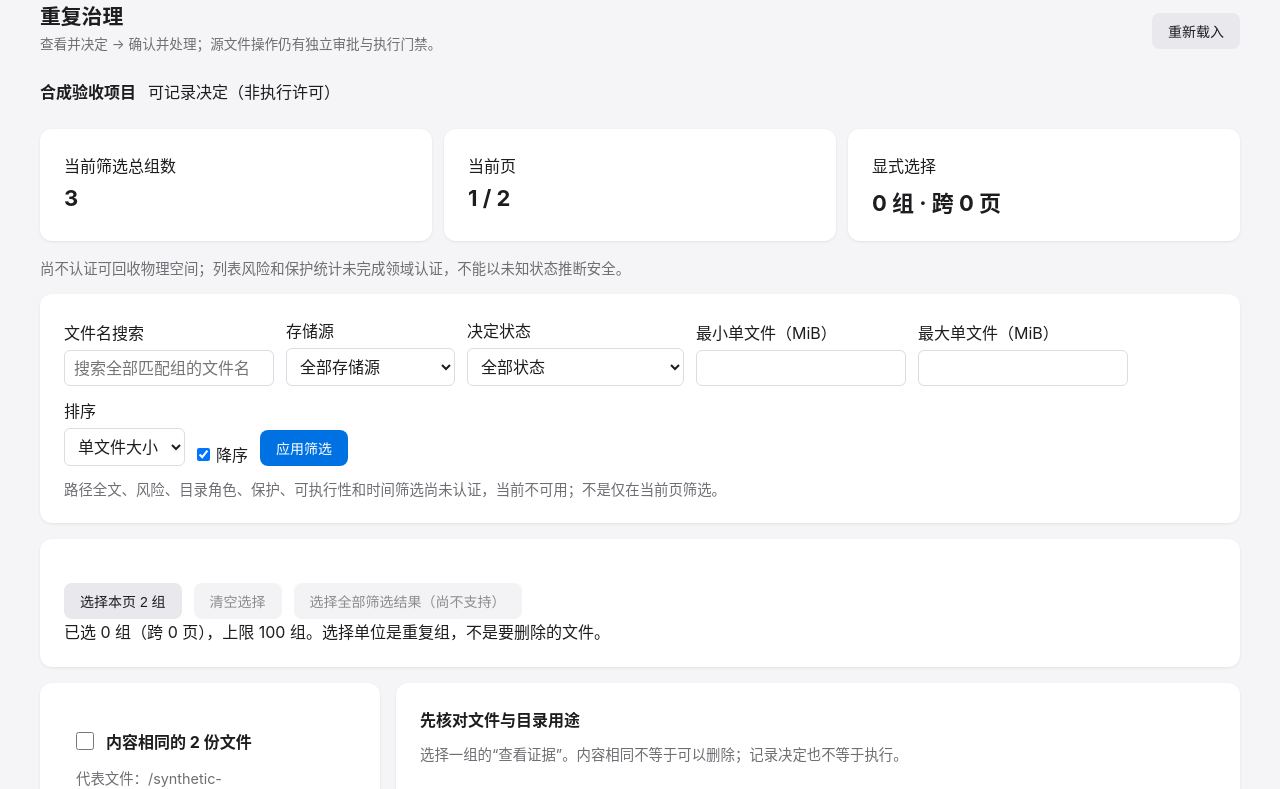
it: governance workbench selection and records-only flow › records a single intent on the same page without an execution API
What coordinates should you click on to do the following:
click the checkbox named "选择本页第 1 组"
I would click on:
 (85, 741)
Its box is [76,732,94,750].
(page scrolled)
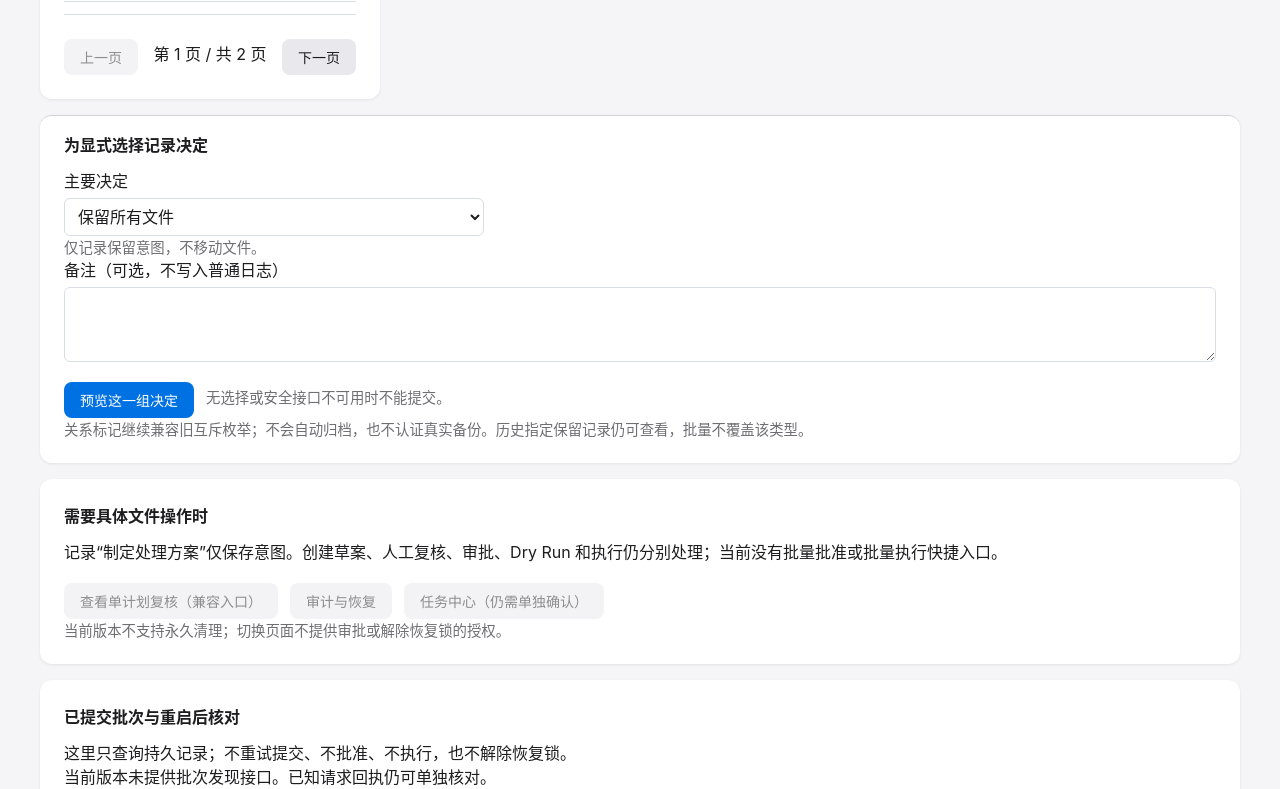
What coordinates should you click on to do the following:
click the button "预览这一组决定"
I would click on:
 (129, 400)
Its box is [64,382,194,418].
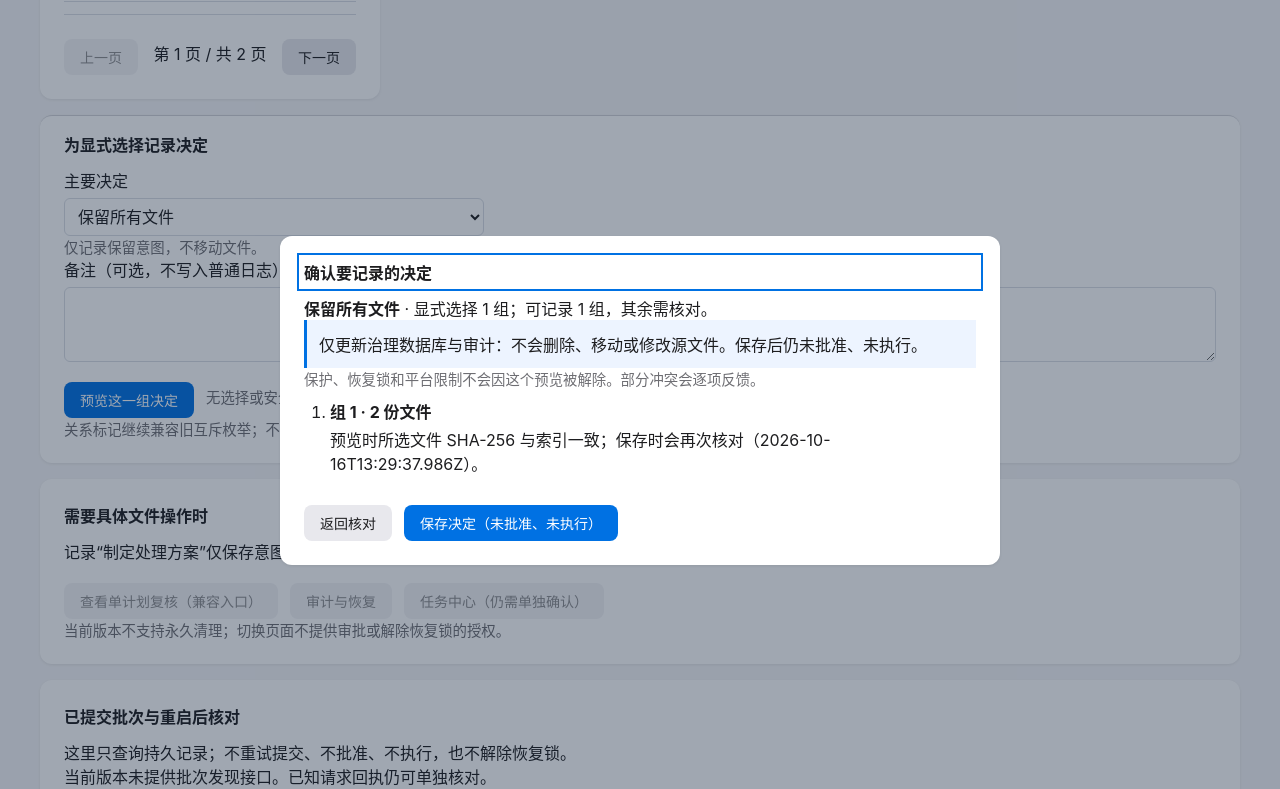
Expected: the dialog is shown, [280,236,1000,564]
Expected: the text "仅更新治理数据库与审计：不会删除、移动或修改源文件。保存后仍未批准、未执行。" is shown, [304,320,976,368]
What coordinates should you click on to do the following:
click the button "保存决定（未批准、未执行）"
I would click on:
 (511, 522)
Its box is [404,504,618,540].
(page scrolled)
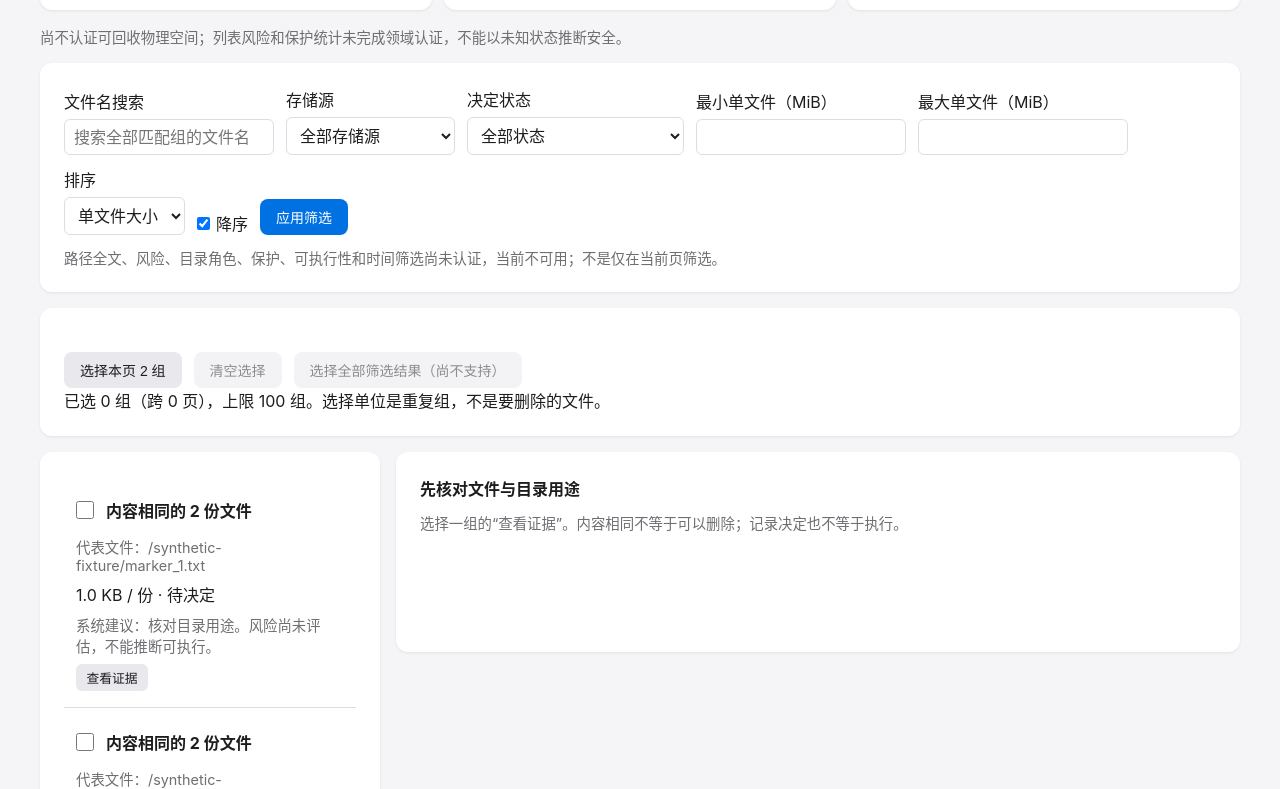
Expected: the text "已选 0 组（跨 0 页），上限 100 组。选择单位是重复组，不是要删除的文件。" is shown, [64,391,610,411]
